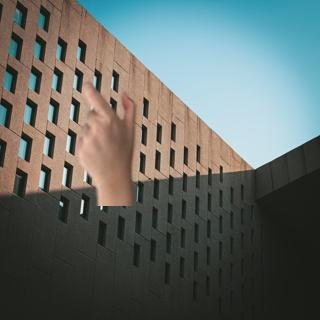HATE: (68, 84, 139, 198)
